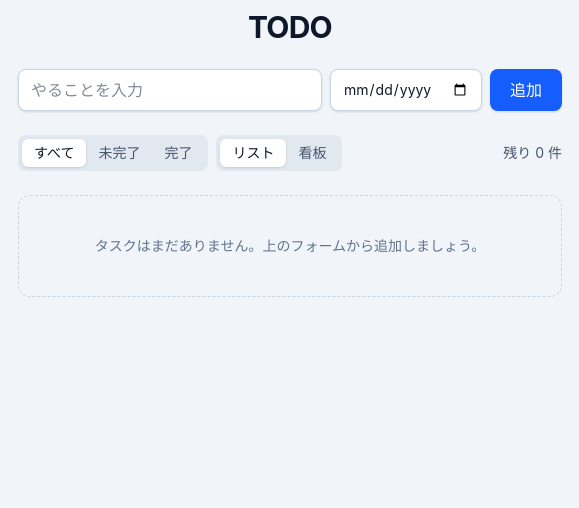
Test: App › セクションと看板表示 › リスト表示では3つのセクションにタスクが振り分けられる
Type "A" into the field labelled "やること" at (170, 90), box [18,69,322,111]
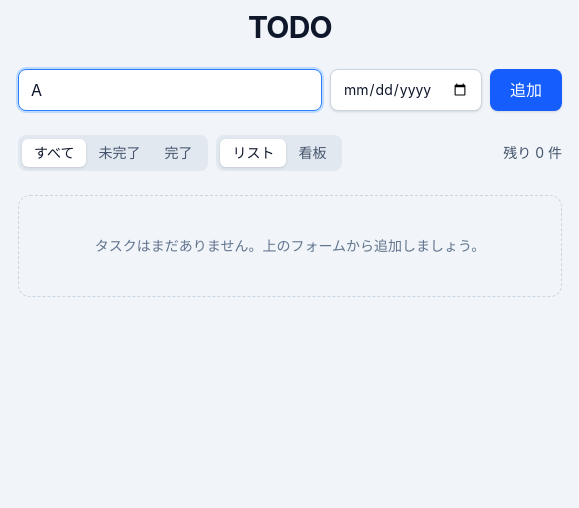
Click the button "追加" at (526, 90), box [490,69,562,111]
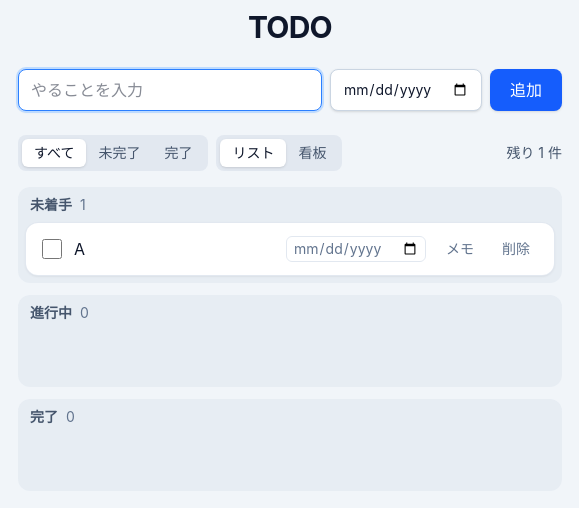
Expected: the text "A" is shown, [74,239,85,259]
Expected: the element "完了" is shown, [18,399,562,491]
